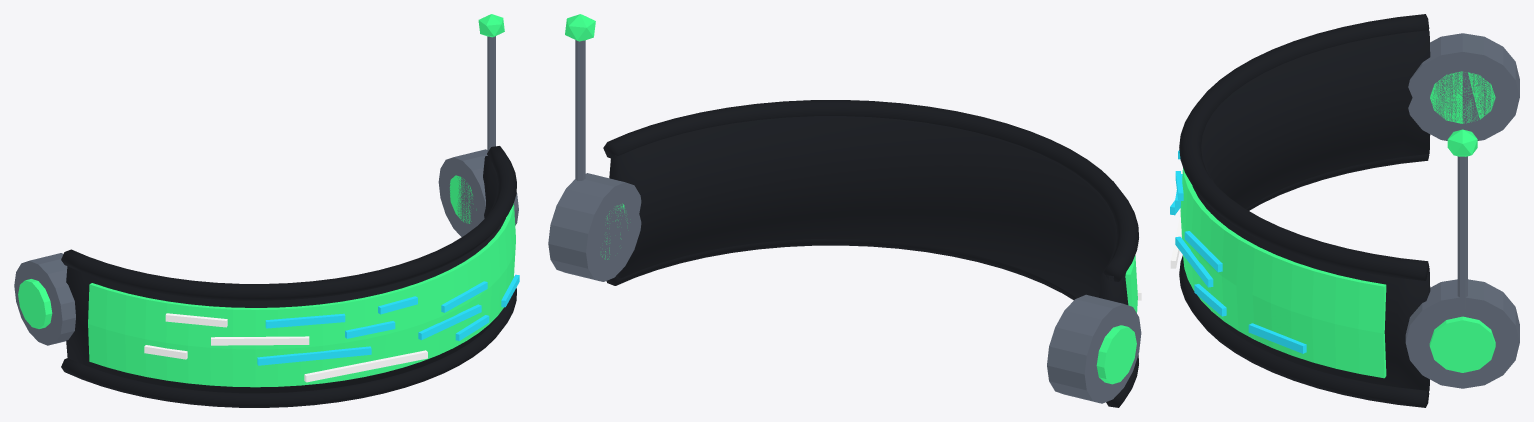
The model's file is quantum_hacker_visor.glb.
3 views of the same model, side by side, from view 1: azimuth 30°, elevation 25°; view 2: azimuth 150°, elevation 25°; view 3: azimuth 270°, elevation 25° (orthographic). The views are drawn at different scales.
Visible parts, largest first — view 1: quantum_hacker_visor; view 2: quantum_hacker_visor; view 3: quantum_hacker_visor.
Boxes of the visible parts, x1,y1,x2,y2 form: quantum_hacker_visor: (14, 14, 519, 407); quantum_hacker_visor: (548, 14, 1141, 407); quantum_hacker_visor: (1170, 14, 1519, 407).
Size of the model in its own units: 1.66 by 0.8017 by 0.8991.
Materials: 1 (1 with a texture image).
